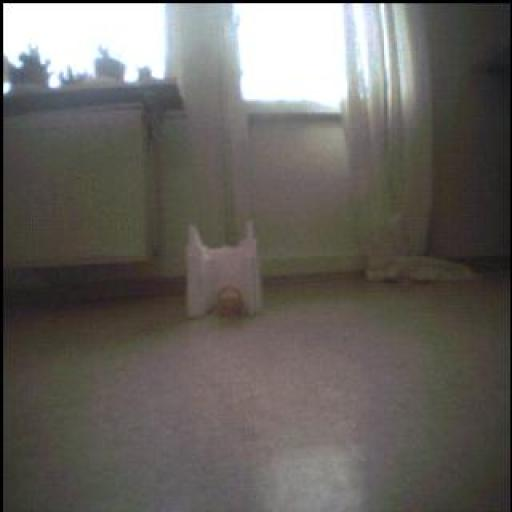Basket: (207, 284, 254, 324)
